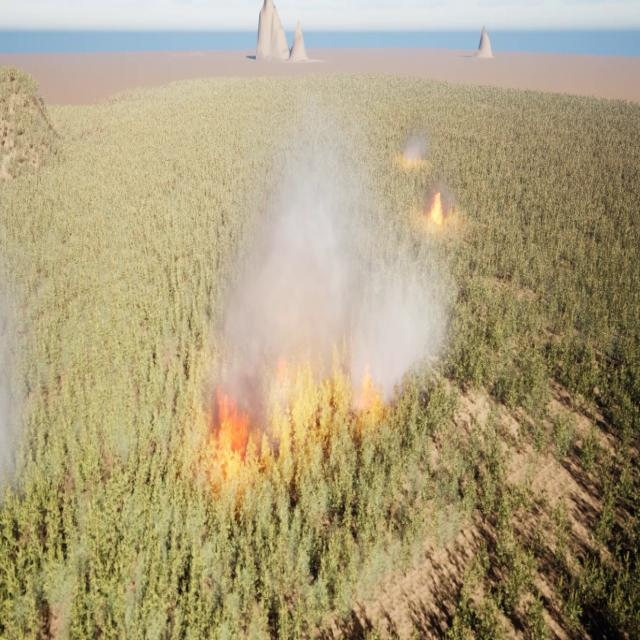fire: (271, 348, 328, 416), (212, 391, 252, 468), (353, 362, 378, 415), (427, 192, 447, 223)
smoke: (200, 87, 459, 444), (0, 268, 33, 508), (422, 178, 453, 222), (402, 128, 431, 170)
